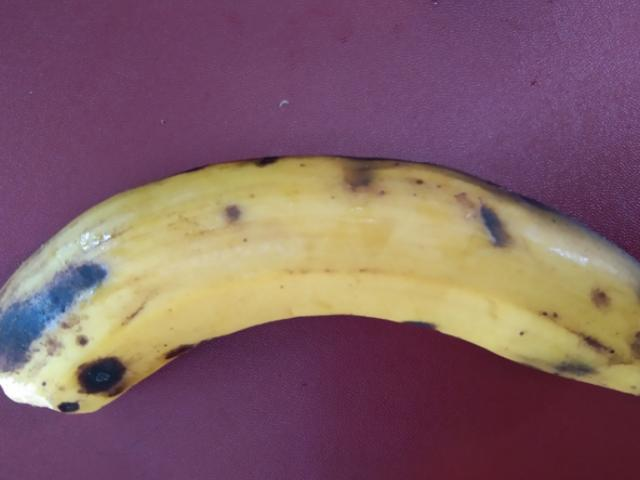ripe: (6, 147, 639, 449)
